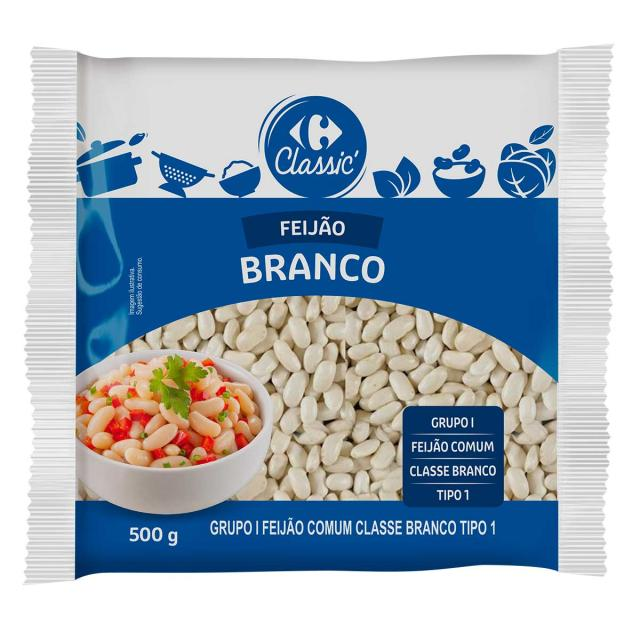beans package: (27, 47, 610, 581)
